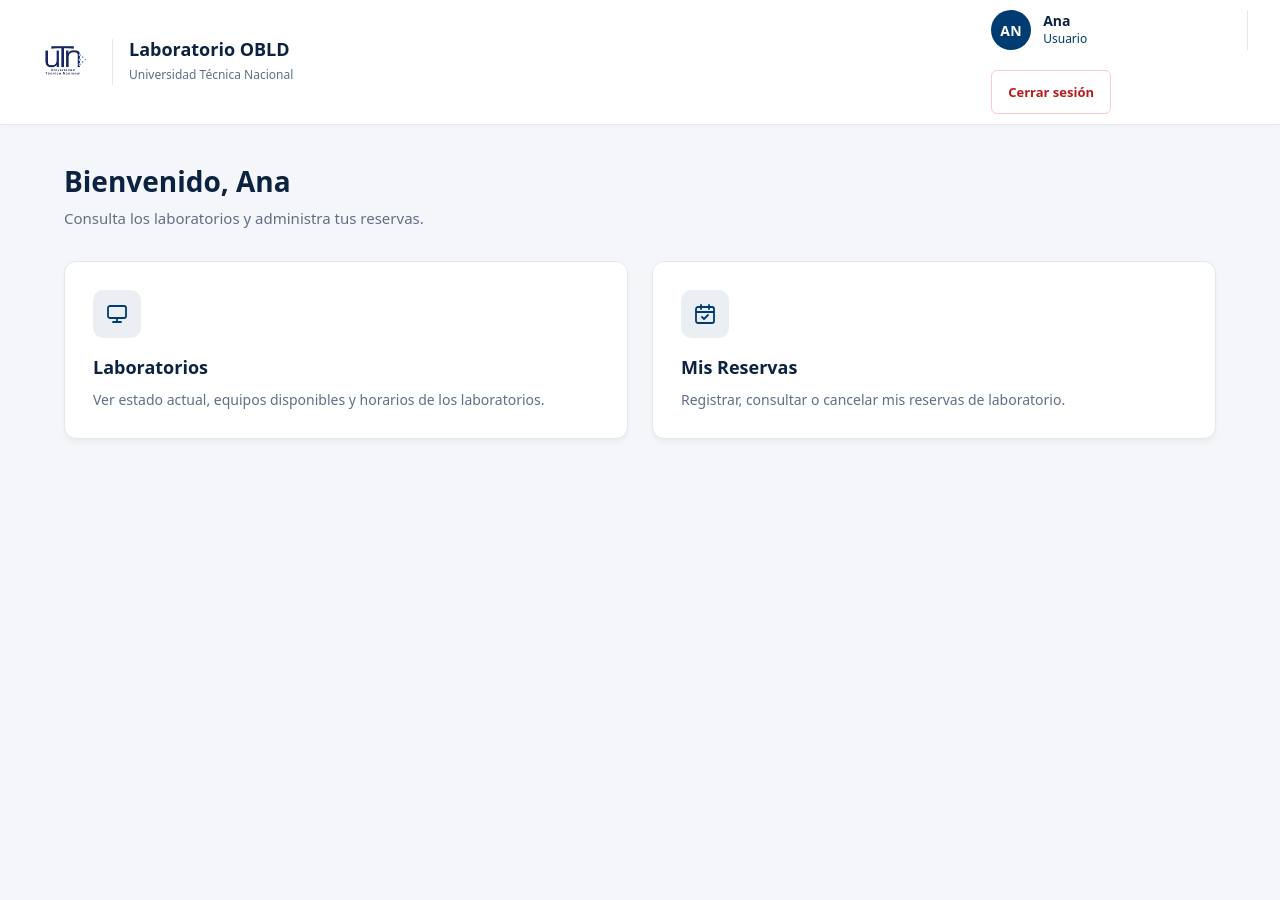
navega a laboratorios y restaura el inicio mediante popstate
The width and height of the screenshot is (1280, 900).
Step 1. Click the button "Laboratorios" → click(117, 314), box 64,261 -> 628,439
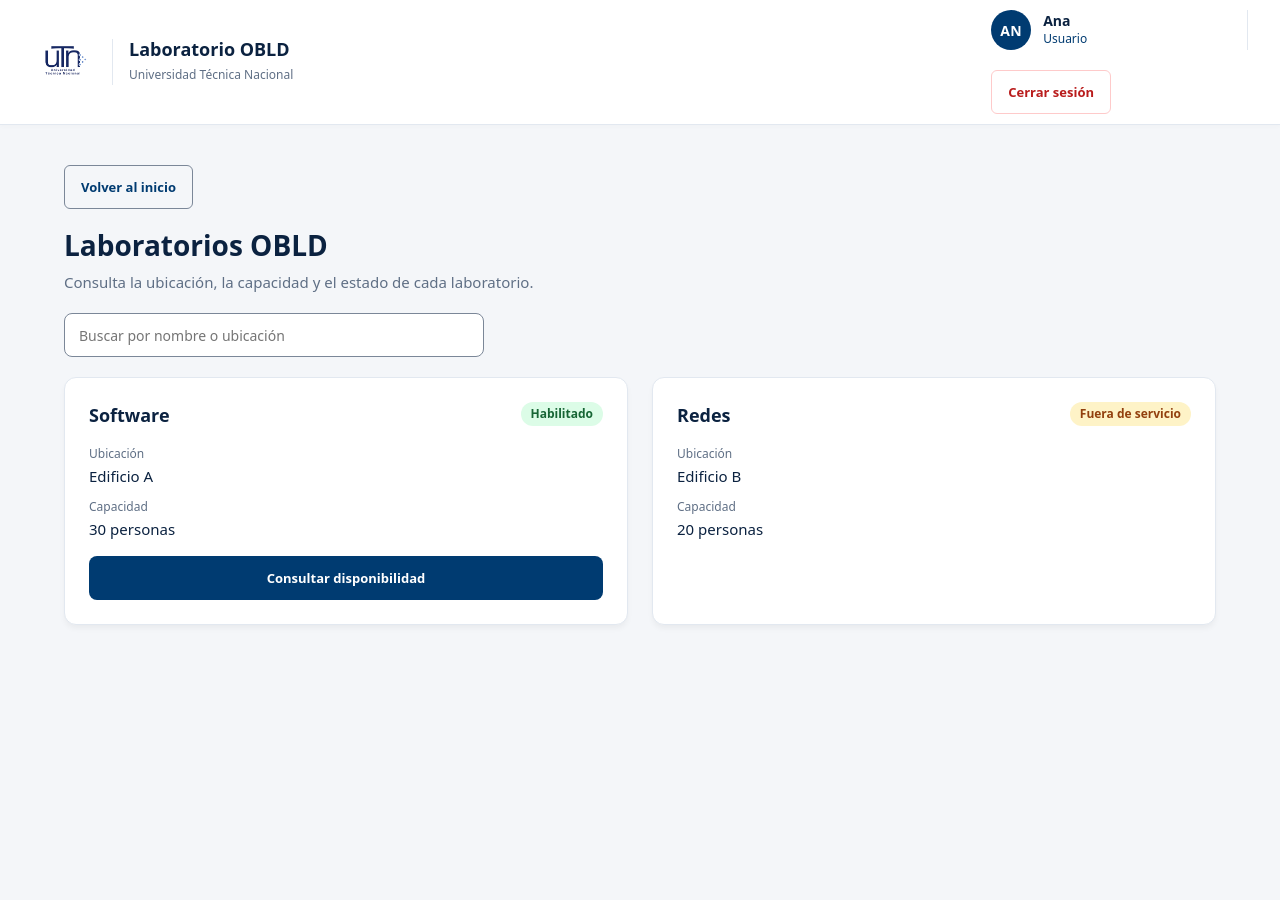
Expected: the heading "Laboratorios OBLD" is shown, 64,226 -> 328,264
Step 2. Click the button "Volver al inicio" → click(128, 187), box 64,165 -> 193,209
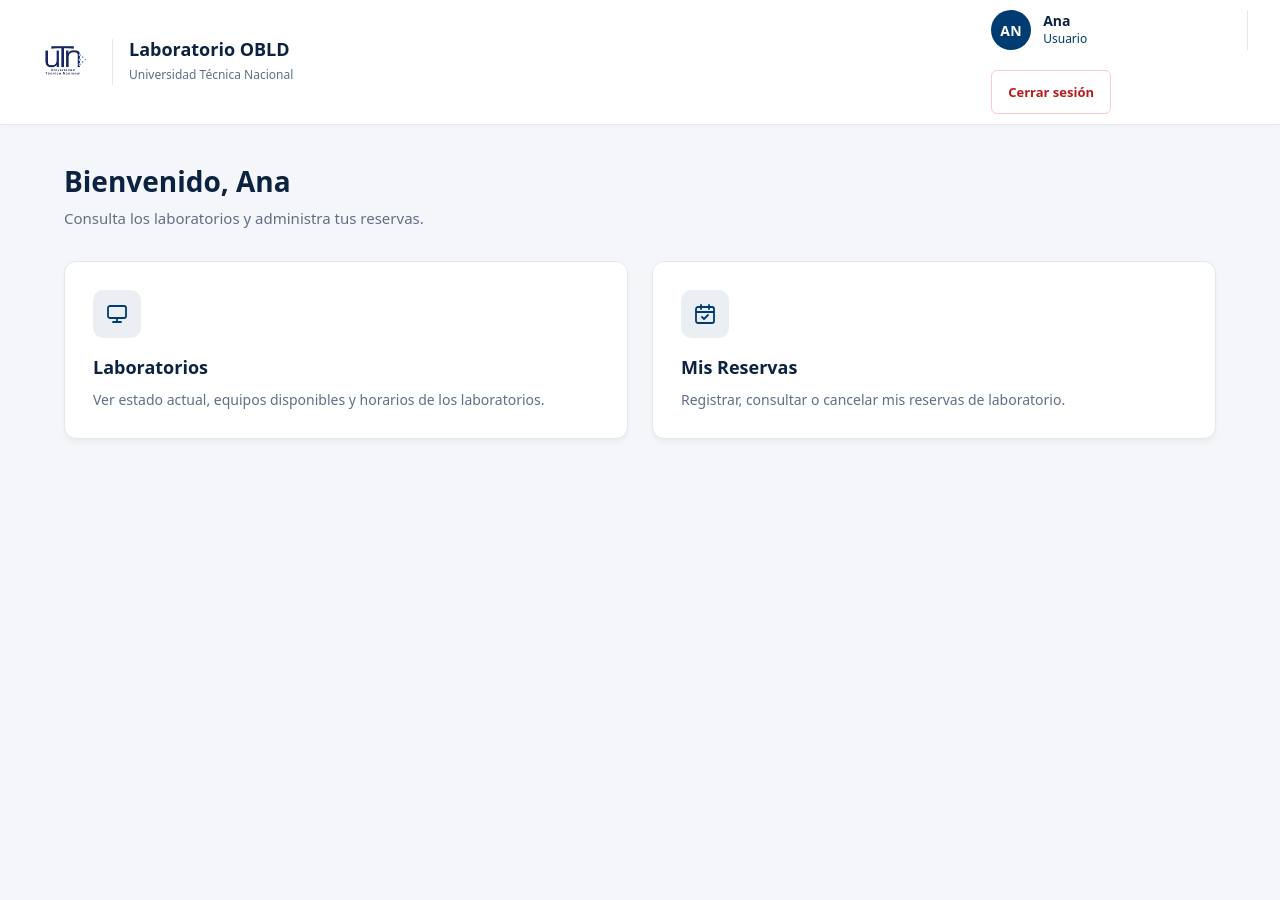
Expected: the heading "Bienvenido, Ana" is shown, 64,162 -> 291,200
